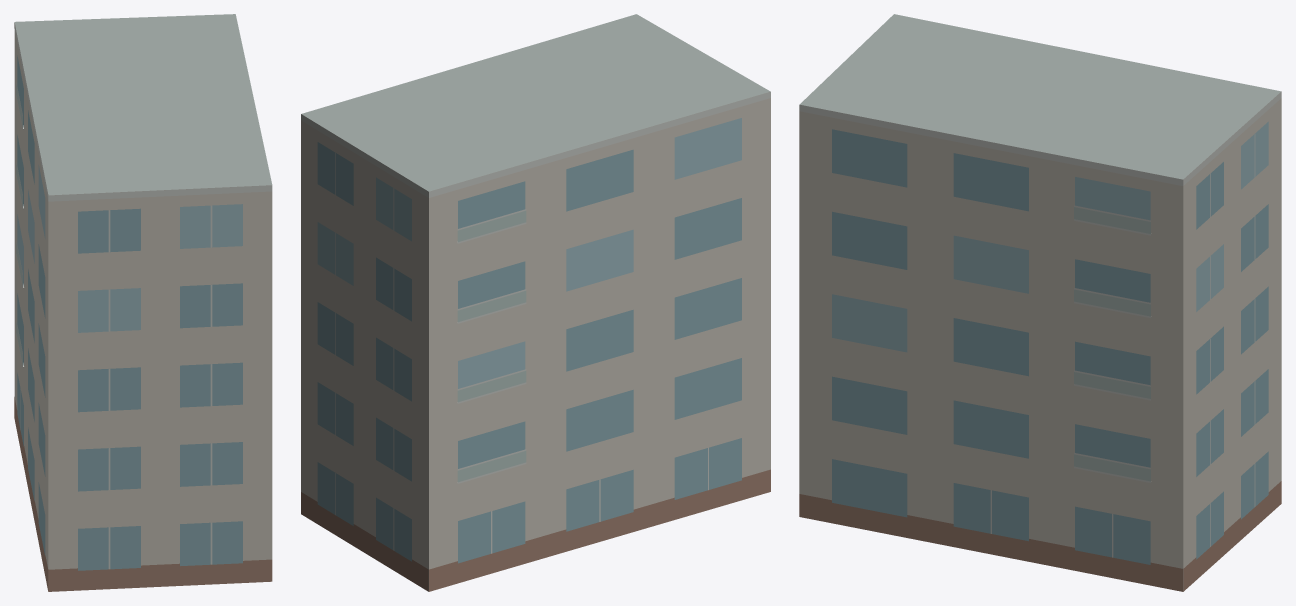
The model's file is survey-upis-32634242.glb.
3 renders of one model, left to right at view 1: azimuth 30°, elevation 25°; view 2: azimuth 150°, elevation 25°; view 3: azimuth 270°, elevation 25°, orthographic. The views are drawn at different scales.
Visible parts, largest first — view 1: survey-upis-32634242.tmp; view 2: survey-upis-32634242.tmp; view 3: survey-upis-32634242.tmp.
Boxes of the visible parts, <box> form: survey-upis-32634242.tmp: <box>14,14,272,591</box>; survey-upis-32634242.tmp: <box>301,14,770,591</box>; survey-upis-32634242.tmp: <box>799,14,1281,591</box>.
Size of the model in its own units: 13.15 by 15.25 by 16.17.
